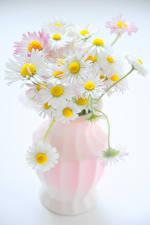chamomile: (9, 61, 49, 83), (31, 146, 56, 169), (63, 56, 86, 80), (85, 34, 111, 55), (47, 77, 68, 102), (81, 78, 107, 97), (130, 54, 149, 77), (55, 103, 80, 120), (36, 102, 60, 116), (47, 32, 69, 47), (100, 57, 117, 76), (110, 74, 129, 91), (72, 95, 92, 111), (75, 26, 91, 39), (53, 20, 69, 31)
